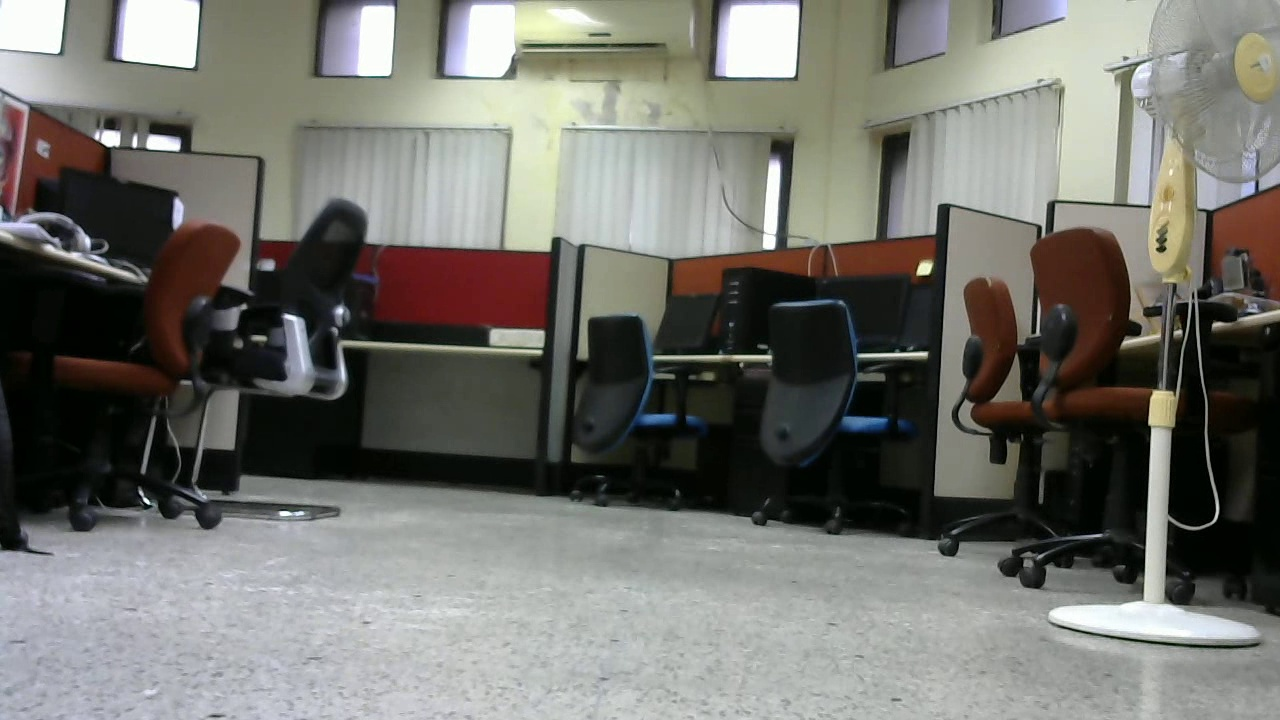chair: (1015, 219, 1205, 588), (51, 223, 244, 527), (729, 288, 923, 534), (228, 199, 378, 516), (933, 274, 1074, 560), (561, 312, 723, 512)
